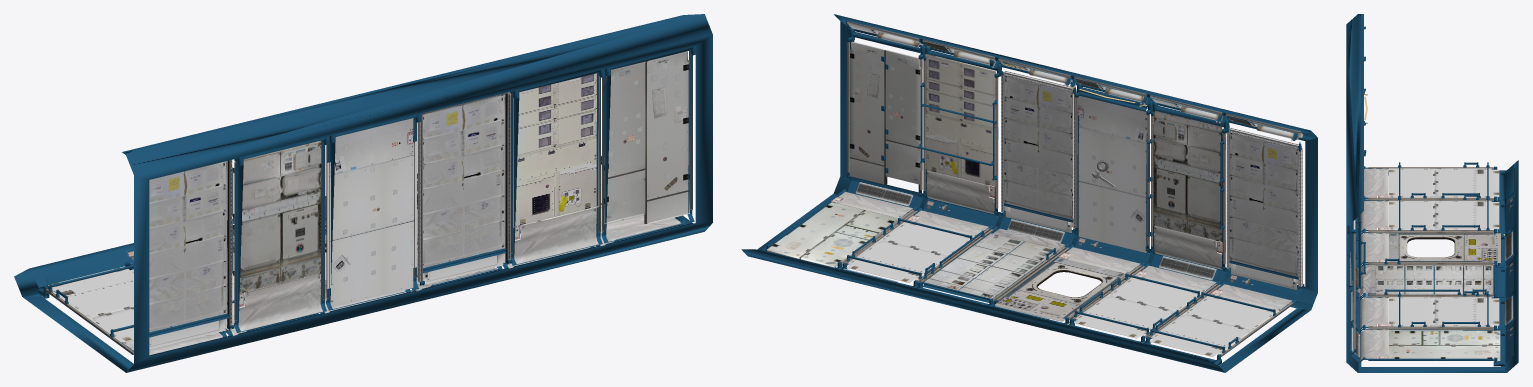
File: US_Lab_ISS_half.dae
3 renders of one model, left to right at view 1: azimuth 30°, elevation 25°; view 2: azimuth 150°, elevation 25°; view 3: azimuth 270°, elevation 25°, orthographic. The views are drawn at different scales.
Parts seen in each view (by area): view 1: Mesh; view 2: Mesh; view 3: Mesh.
Boxes of the visible parts, x1,y1,x2,y2 form: Mesh: [14, 14, 712, 372]; Mesh: [741, 14, 1317, 372]; Mesh: [1346, 14, 1518, 372].
Bounding box in the file's own units: 6.72 × 2.42 × 2.42.
24 materials, 24 textured.
